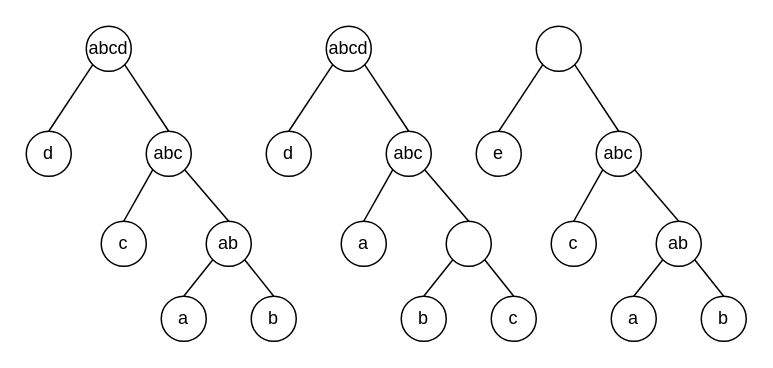
Some shapes in this 773 by 368 pixel diagram are drawn without their labels. The box of each missing label's shape, as (x1, y1, x2, y2) in pixels:
abce: (535, 25, 581, 71)
bc: (445, 220, 491, 266)
